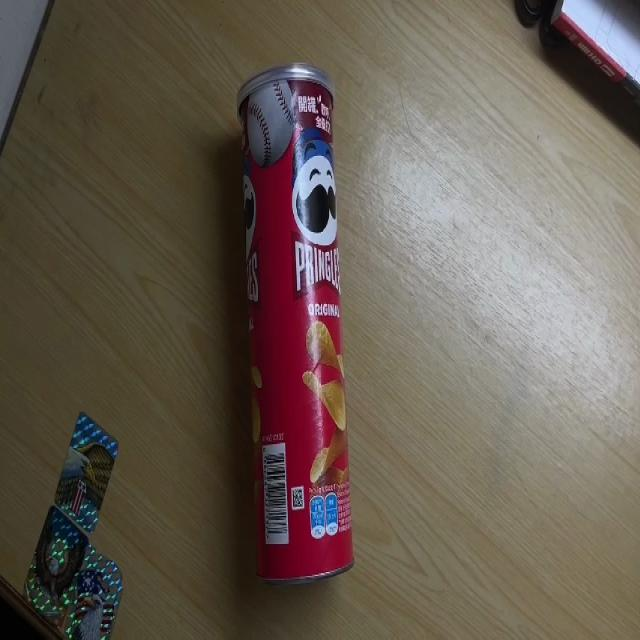Pringles: (235, 60, 356, 585)
